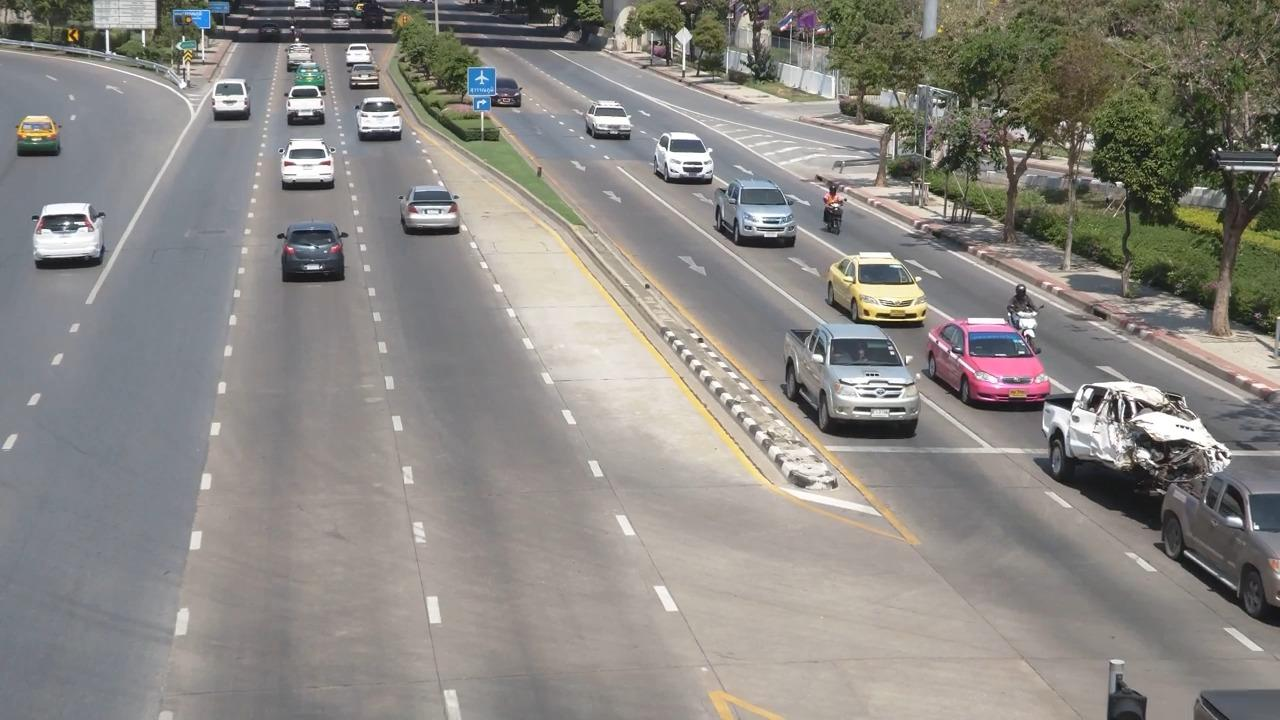CAR: (1120, 455, 1280, 613), (788, 313, 925, 431), (928, 317, 1050, 412), (22, 195, 116, 285), (829, 250, 932, 329), (274, 216, 361, 297), (714, 179, 800, 250), (393, 175, 474, 244), (270, 129, 342, 196), (651, 133, 717, 189), (344, 92, 410, 145), (9, 109, 66, 168), (204, 75, 254, 127), (581, 99, 634, 144), (283, 82, 333, 127), (486, 66, 529, 112), (346, 62, 385, 97), (293, 66, 329, 94), (285, 41, 315, 70), (340, 42, 373, 67)
MOTOR: (1004, 284, 1048, 353), (816, 175, 850, 240)
